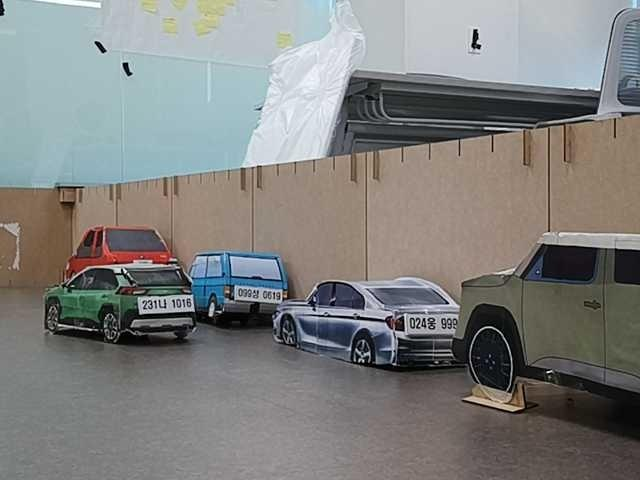car: (454, 231, 640, 408), (274, 277, 461, 368), (45, 264, 196, 343), (182, 252, 290, 324), (67, 224, 181, 283)
id: (405, 314, 464, 333), (236, 286, 283, 304), (139, 296, 194, 311)
